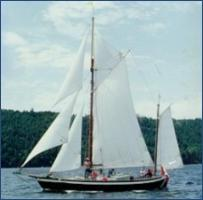Ship: (18, 16, 183, 192)
